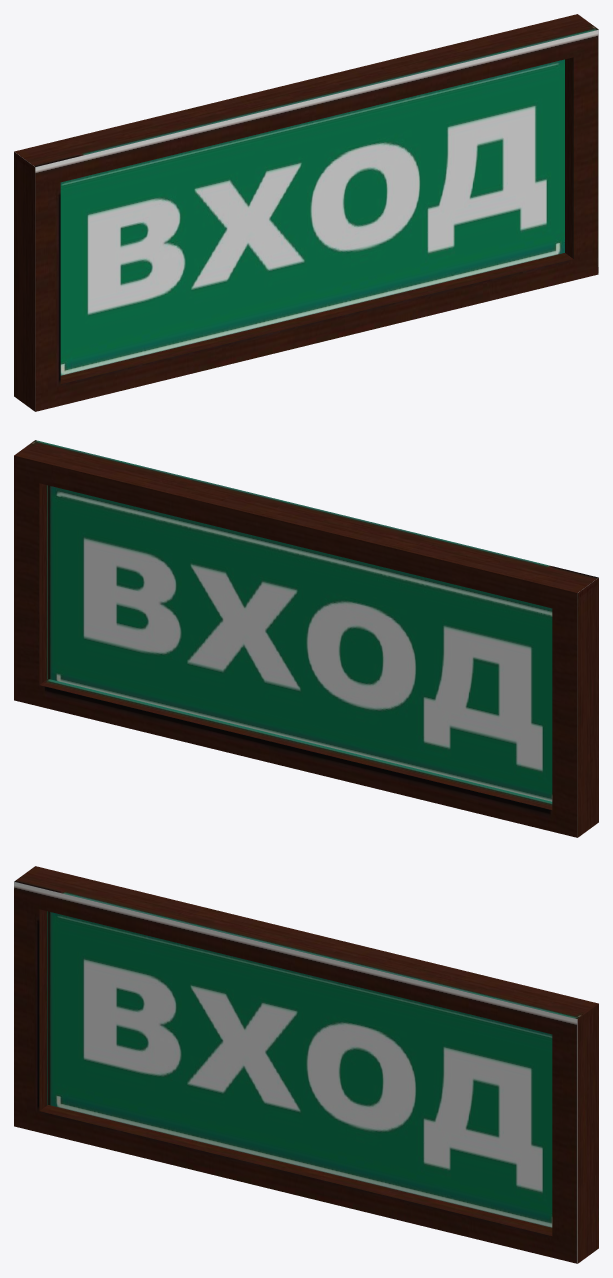
File: vhod.fbx
3 views of the same model, one above another, from view 1: azimuth 30°, elevation 25°; view 2: azimuth 150°, elevation 25°; view 3: azimuth 330°, elevation 25° (orthographic).
Visible parts, largest first — view 1: exit_sign_Baked_0; view 2: exit_sign_Baked_0; view 3: exit_sign_Baked_0.
Part boxes in pixels (box(x1,y1,x2,y2)): exit_sign_Baked_0: box(14, 14, 598, 411); exit_sign_Baked_0: box(14, 440, 598, 837); exit_sign_Baked_0: box(14, 866, 598, 1263).
Size of the model in its own units: 485 by 201 by 31.72.
